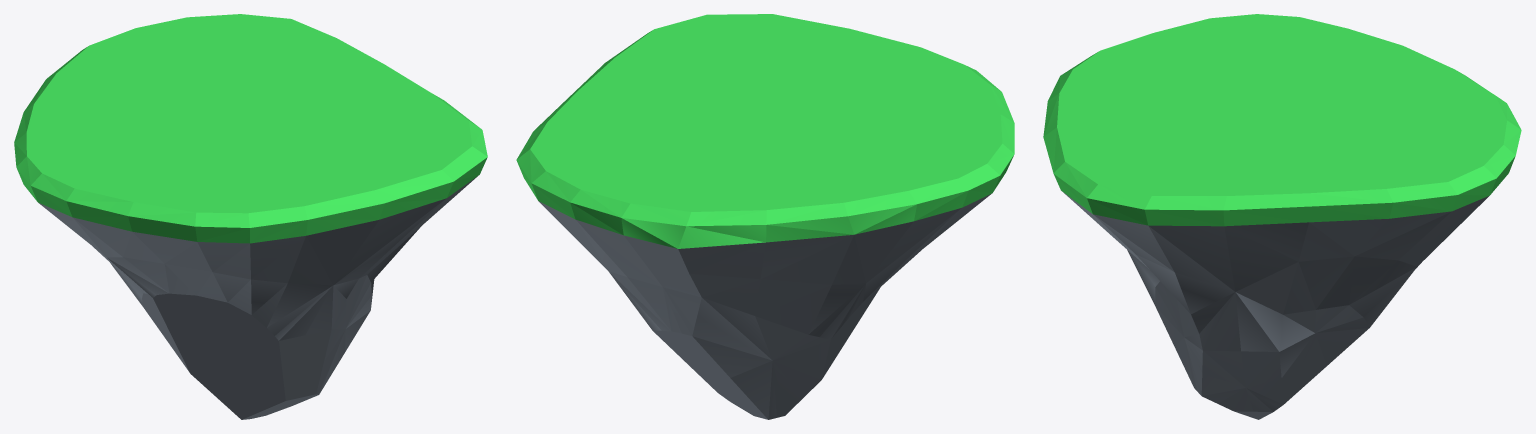
Rendered from testmodelsisland_Cube__2_.fbx.
3 renders of one model, left to right at view 1: azimuth 30°, elevation 25°; view 2: azimuth 150°, elevation 25°; view 3: azimuth 270°, elevation 25°, orthographic. The views are drawn at different scales.
Parts seen in each view (by area): view 1: island_Cube__2_; view 2: island_Cube__2_; view 3: island_Cube__2_.
Boxes of the visible parts, x1,y1,x2,y2 form: island_Cube__2_: [14, 14, 487, 419]; island_Cube__2_: [516, 14, 1014, 419]; island_Cube__2_: [1043, 14, 1521, 419].
Bounding box in the file's own units: 2303 × 1648 × 2407.
